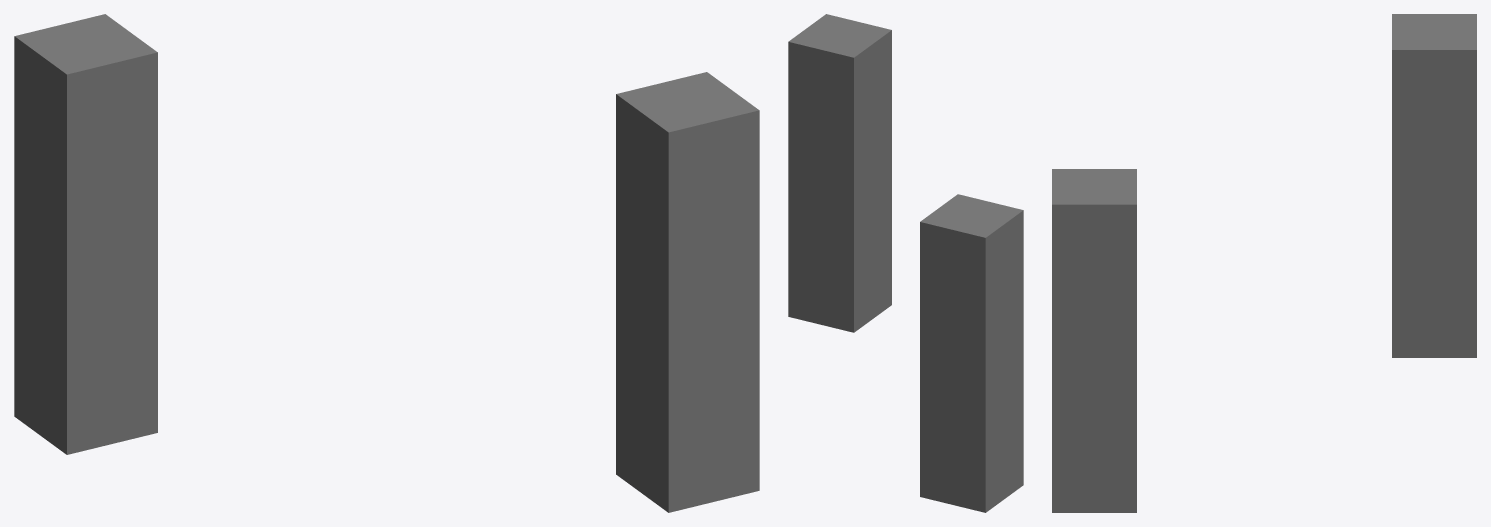
3 renders of one model, left to right at view 1: azimuth 30°, elevation 25°; view 2: azimuth 150°, elevation 25°; view 3: azimuth 270°, elevation 25°, orthographic. The views are drawn at different scales.
Parts seen in each view (by area): view 1: MD014; view 2: MD014; view 3: MD014.
Boxes of the visible parts, x1,y1,x2,y2 form: MD014: (14,14,759,512); MD014: (788,14,1023,512); MD014: (1052,14,1476,512).
Size of the model in its own units: 2656 by 2000 by 2499.
Materials: 1 (1 with a texture image).
